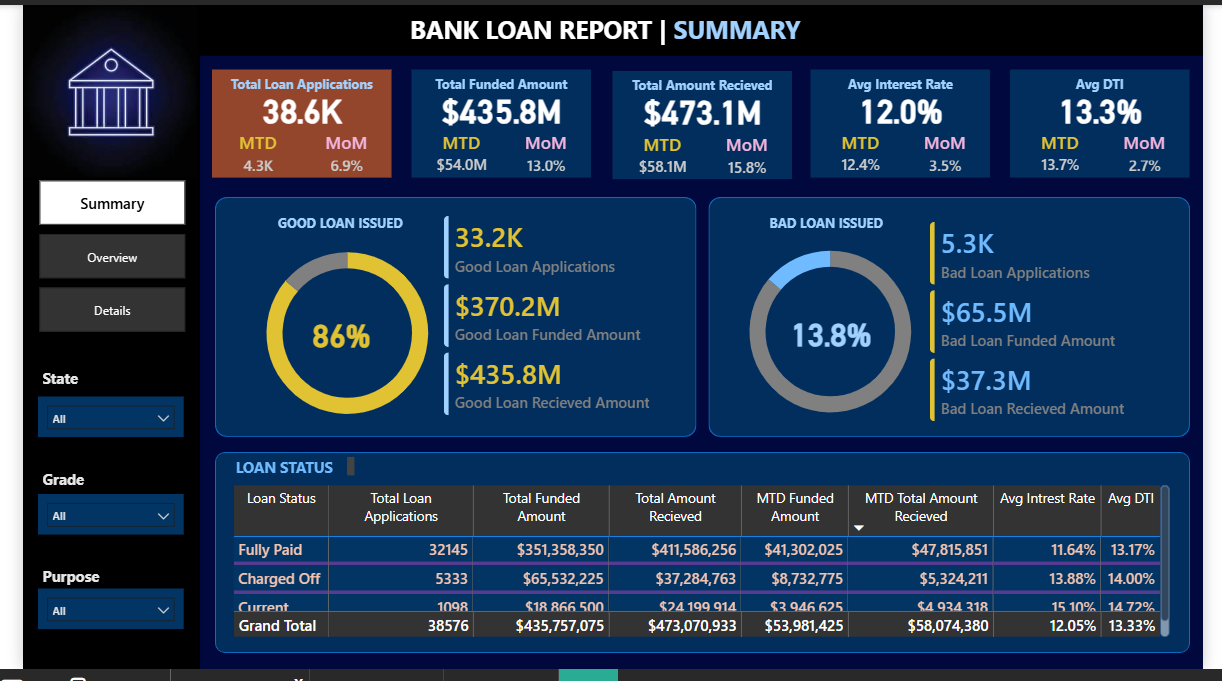

The page's visual inventory and layout, read from the dashboard file:
{"tool":"powerbi","page":{"name":"Summary","canvas":[1280,720],"ordinal":0},"visuals":[{"type":"shape","box":[421.7,69.9,194.8,117.2],"z":0,"group":"g2"},{"type":"shape","box":[854,69.9,194.8,117.2],"z":0,"group":"g4"},{"type":"shape","box":[1070.9,69.9,194.8,117.2],"z":0,"group":"g5"},{"type":"shape","box":[205.2,70.7,194.8,117.2],"z":0,"group":"g1"},{"type":"shape","box":[638.7,71.6,194.8,117.2],"z":0,"group":"g3"},{"type":"shape","box":[208.2,208.2,522.1,260.2],"z":0},{"type":"donutChart","fields":{"Category":["bank_loan_data.Good vs Bad Loan"],"Y":["bank_loan_data.Total Loan Applications"]},"box":[226.1,240.7,250.5,229.3],"z":1000},{"type":"shape","box":[0,0,1279.3,55],"z":2000},{"type":"shape","box":[0,55.2,192,665.5],"z":3000},{"type":"card","fields":{"Values":["bank_loan_data.Total Funded Amount"]},"box":[421.7,87.1,194.8,48.3],"z":3000,"group":"g2"},{"type":"card","fields":{"Values":["bank_loan_data.Avg Intrest Rate"]},"box":[854,87.1,194.8,48.3],"z":3000,"group":"g4"},{"type":"card","fields":{"Values":["bank_loan_data.Avg DTI"]},"box":[1070.9,87.1,194.8,48.3],"z":3000,"group":"g5"},{"type":"card","fields":{"Values":["bank_loan_data.Total Loan Applications"]},"box":[205.2,87.9,194.8,48.3],"z":3000,"group":"g1"},{"type":"card","fields":{"Values":["bank_loan_data.Total Amount Recieved"]},"box":[638.7,88.8,194.8,48.3],"z":3000,"group":"g3"},{"type":"card","fields":{"Values":["bank_loan_data.Good Loan %"]},"box":[296,331.8,97.6,47.2],"z":4000},{"type":"textbox","box":[415.5,3.4,448.3,48.3],"z":5000},{"type":"textbox","box":[421.7,69.9,194.8,34.5],"z":5000,"group":"g2"},{"type":"textbox","box":[854,69.9,194.8,34.5],"z":5000,"group":"g4"},{"type":"textbox","box":[1070.9,69.9,194.8,34.5],"z":5000,"group":"g5"},{"type":"textbox","box":[205.2,70.7,194.8,34.5],"z":5000,"group":"g1"},{"type":"textbox","box":[638.7,71.6,194.8,34.5],"z":5000,"group":"g3"},{"type":"card","title":"MTD","fields":{"Values":["bank_loan_data.MTD Funded Amount"]},"box":[439.8,136,72.4,51.7],"z":6000,"group":"g2"},{"type":"card","title":"MTD","fields":{"Values":["bank_loan_data.MTD Avg Int Rate"]},"box":[872.1,136,72.4,51.7],"z":6000,"group":"g4"},{"type":"card","title":"MTD","fields":{"Values":["bank_loan_data.MTD Avg DTI"]},"box":[1089,136,72.4,51.7],"z":6000,"group":"g5"},{"type":"card","title":"MTD","fields":{"Values":["bank_loan_data.MTD Total Amount Recieved"]},"box":[656.8,137.7,72.4,51.7],"z":6000,"group":"g3"},{"type":"card","title":"MTD","fields":{"Values":["bank_loan_data.MTD Loan Applications"]},"box":[222.4,137.9,63.8,50],"z":6000,"group":"g1"},{"type":"textbox","box":[248.9,221.2,190.3,34.2],"z":6000},{"type":"group","id":"g1","title":"Group 1","box":[205.2,70.7,194.8,117.2],"z":7000},{"type":"card","title":"MoM","fields":{"Values":["bank_loan_data.MoM Total Funded Amount"]},"box":[535.5,137.1,63.8,50],"z":7000,"group":"g2"},{"type":"card","title":"MoM","fields":{"Values":["bank_loan_data.MoM Avg Int Rate"]},"box":[967.8,137.1,63.8,50],"z":7000,"group":"g4"},{"type":"card","title":"MoM","fields":{"Values":["bank_loan_data.MoM Avg DTI"]},"box":[1184.7,137.1,63.8,50],"z":7000,"group":"g5"},{"type":"card","title":"MoM","fields":{"Values":["bank_loan_data.MoM Loan Application"]},"box":[319,137.9,63.8,50],"z":7000,"group":"g1"},{"type":"card","title":"MoM","fields":{"Values":["bank_loan_data.MoM Total Amount Recieved"]},"box":[752.5,138.8,63.8,50],"z":7000,"group":"g3"},{"type":"group","id":"g2","title":"Group 1","box":[421.7,69.9,195.2,118.7],"z":8000},{"type":"group","id":"g3","title":"Group 1","box":[638.7,71.6,193.6,118.7],"z":9000},{"type":"group","id":"g4","title":"Group 1","box":[854,69.9,195.2,117.1],"z":10000},{"type":"group","id":"g5","title":"Group 1","box":[1070.9,69.9,195.2,117.1],"z":11000},{"type":"shape","box":[743.3,208.2,522.1,260.2],"z":12000},{"type":"cardVisual","fields":{"Data":["bank_loan_data.Good Loan Applications","bank_loan_data.Good Loan Funded Amount","bank_loan_data.Good Loan Recieved Amount"]},"box":[439.2,211.5,291.2,252.1],"z":13000},{"type":"donutChart","fields":{"Category":["bank_loan_data.Good vs Bad Loan"],"Y":["bank_loan_data.Total Loan Applications"]},"box":[749.8,239.1,250.5,229.3],"z":14000},{"type":"textbox","box":[775.9,221.2,190.3,34.2],"z":15000},{"type":"card","fields":{"Values":["bank_loan_data.Bad Loan %"]},"box":[824.7,330.2,102.5,48.8],"z":16000},{"type":"cardVisual","fields":{"Data":["bank_loan_data.Bad Loan Applications","bank_loan_data.Bad Loan Funded Amount","bank_loan_data.Bad Loan Recieved Amount"]},"box":[966.2,218,291.2,252.1],"z":17000},{"type":"shape","box":[208.2,484.7,1057.3,218],"z":18000},{"type":"tableEx","fields":{"Values":["bank_loan_data.loan_status","bank_loan_data.Total Loan Applications","bank_loan_data.Total Funded Amount","bank_loan_data.Total Amount Recieved","bank_loan_data.MTD Funded Amount","bank_loan_data.MTD Total Amount Recieved","bank_loan_data.Avg Intrest Rate","bank_loan_data.Avg DTI"]},"box":[222.8,515.6,1024.7,174],"z":19000},{"type":"textbox","box":[226.1,484.7,138.3,30.9],"z":20000},{"type":"slicer","fields":{"Values":["bank_loan_data.address_state"]},"box":[16.3,424.5,157.8,43.9],"z":21000},{"type":"textbox","box":[16.3,388.7,102.5,35.8],"z":22000},{"type":"slicer","fields":{"Values":["bank_loan_data.grade"]},"box":[16.3,530.3,157.8,43.9],"z":23000},{"type":"textbox","box":[16.3,497.7,102.5,35.8],"z":24000},{"type":"slicer","fields":{"Values":["bank_loan_data.grade"]},"box":[16.3,632.7,157.8,43.9],"z":25000},{"type":"textbox","box":[16.3,603.4,102.5,35.8],"z":26000},{"type":"pageNavigator","box":[18.3,190,158.3,166.7],"z":26001},{"type":"image","box":[0,0,191.7,186.7],"z":26002}]}

Visuals, with their boxes on the page's 1280x720 design canvas (x1, y1, x2, y2). These are canvas units, not pixel positions in the 1222x681 screenshot, which may show the page scaled, cropped or inside an application window:
shape: 422, 70, 616, 187
shape: 854, 70, 1049, 187
shape: 1071, 70, 1266, 187
shape: 205, 71, 400, 188
shape: 639, 72, 834, 189
shape: 208, 208, 730, 468
donutChart - bank_loan_data.Good vs Bad Loan x bank_loan_data.Total Loan Applications: 226, 241, 477, 470
shape: 0, 0, 1279, 55
shape: 0, 55, 192, 721
card - bank_loan_data.Total Funded Amount: 422, 87, 616, 135
card - bank_loan_data.Avg Intrest Rate: 854, 87, 1049, 135
card - bank_loan_data.Avg DTI: 1071, 87, 1266, 135
card - bank_loan_data.Total Loan Applications: 205, 88, 400, 136
card - bank_loan_data.Total Amount Recieved: 639, 89, 834, 137
card - bank_loan_data.Good Loan %: 296, 332, 394, 379
textbox: 416, 3, 864, 52
textbox: 422, 70, 616, 104
textbox: 854, 70, 1049, 104
textbox: 1071, 70, 1266, 104
textbox: 205, 71, 400, 105
textbox: 639, 72, 834, 106
"MTD" card: 440, 136, 512, 188
"MTD" card: 872, 136, 944, 188
"MTD" card: 1089, 136, 1161, 188
"MTD" card: 657, 138, 729, 189
"MTD" card: 222, 138, 286, 188
textbox: 249, 221, 439, 255
"Group 1" group: 205, 71, 400, 188
"MoM" card: 536, 137, 599, 187
"MoM" card: 968, 137, 1032, 187
"MoM" card: 1185, 137, 1248, 187
"MoM" card: 319, 138, 383, 188
"MoM" card: 752, 139, 816, 189
"Group 1" group: 422, 70, 617, 189
"Group 1" group: 639, 72, 832, 190
"Group 1" group: 854, 70, 1049, 187
"Group 1" group: 1071, 70, 1266, 187
shape: 743, 208, 1265, 468
cardVisual - bank_loan_data.Good Loan Applications x bank_loan_data.Good Loan Funded Amount: 439, 212, 730, 464
donutChart - bank_loan_data.Good vs Bad Loan x bank_loan_data.Total Loan Applications: 750, 239, 1000, 468
textbox: 776, 221, 966, 255
card - bank_loan_data.Bad Loan %: 825, 330, 927, 379
cardVisual - bank_loan_data.Bad Loan Applications x bank_loan_data.Bad Loan Funded Amount: 966, 218, 1257, 470
shape: 208, 485, 1266, 703
tableEx - bank_loan_data.loan_status x bank_loan_data.Total Loan Applications: 223, 516, 1248, 690
textbox: 226, 485, 364, 516
slicer - bank_loan_data.address_state: 16, 424, 174, 468
textbox: 16, 389, 119, 424
slicer - bank_loan_data.grade: 16, 530, 174, 574
textbox: 16, 498, 119, 534
slicer - bank_loan_data.grade: 16, 633, 174, 677
textbox: 16, 603, 119, 639
pageNavigator: 18, 190, 177, 357
image: 0, 0, 192, 187
